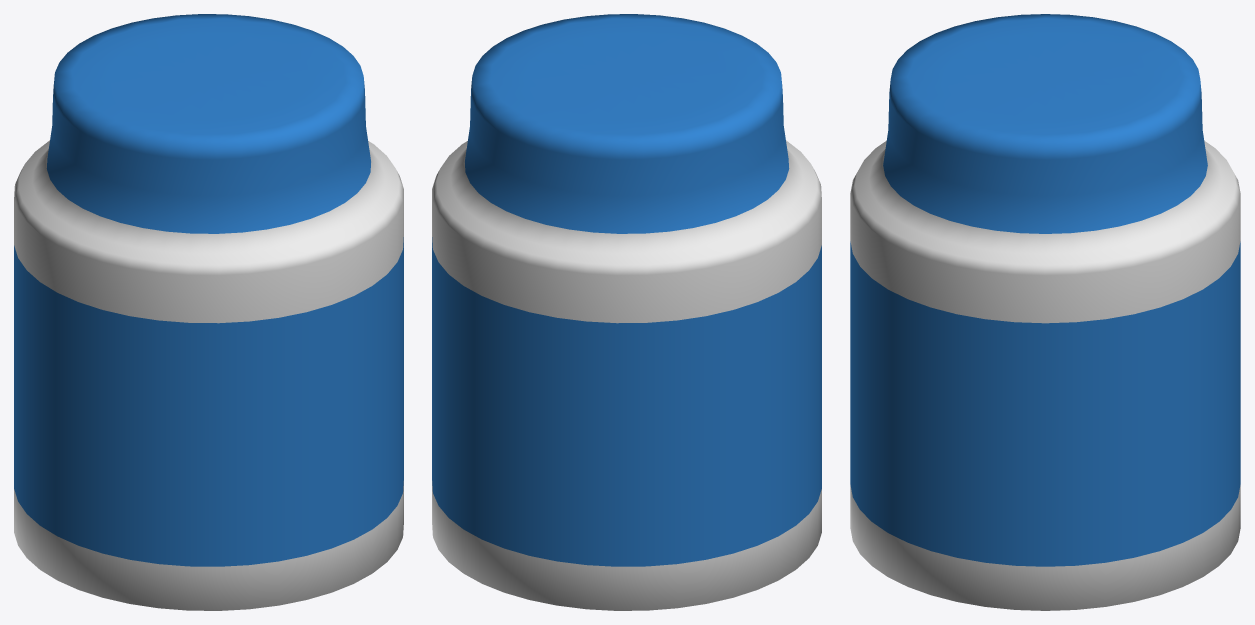
Rendered from 3D Pill Bottle(1).fbx.
3 views of the same model, side by side, from view 1: azimuth 30°, elevation 25°; view 2: azimuth 150°, elevation 25°; view 3: azimuth 270°, elevation 25° (orthographic).
Parts seen in each view (by area): view 1: pCylinder7; view 2: pCylinder7; view 3: pCylinder7.
Part boxes in pixels (x1,y1,x2,y2): pCylinder7: (14, 14, 403, 610); pCylinder7: (432, 14, 821, 610); pCylinder7: (850, 14, 1240, 610).
Size of the model in its own units: 0.842 by 1.09 by 0.842.
